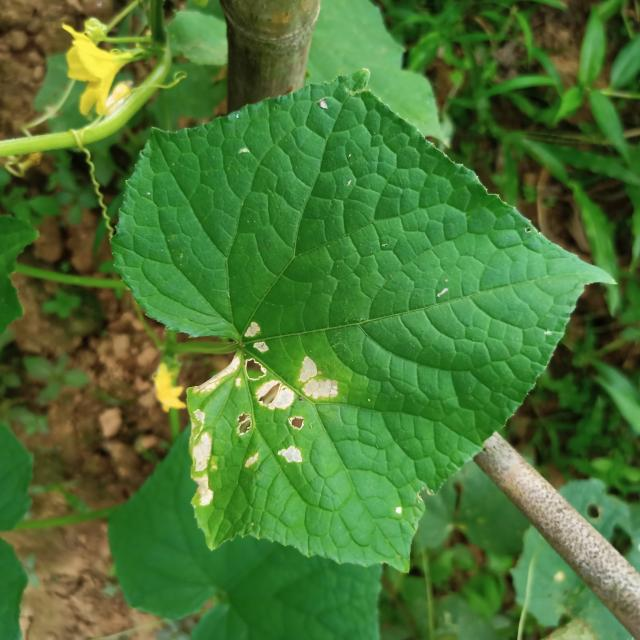disease_cucumber: (193, 321, 337, 503)
